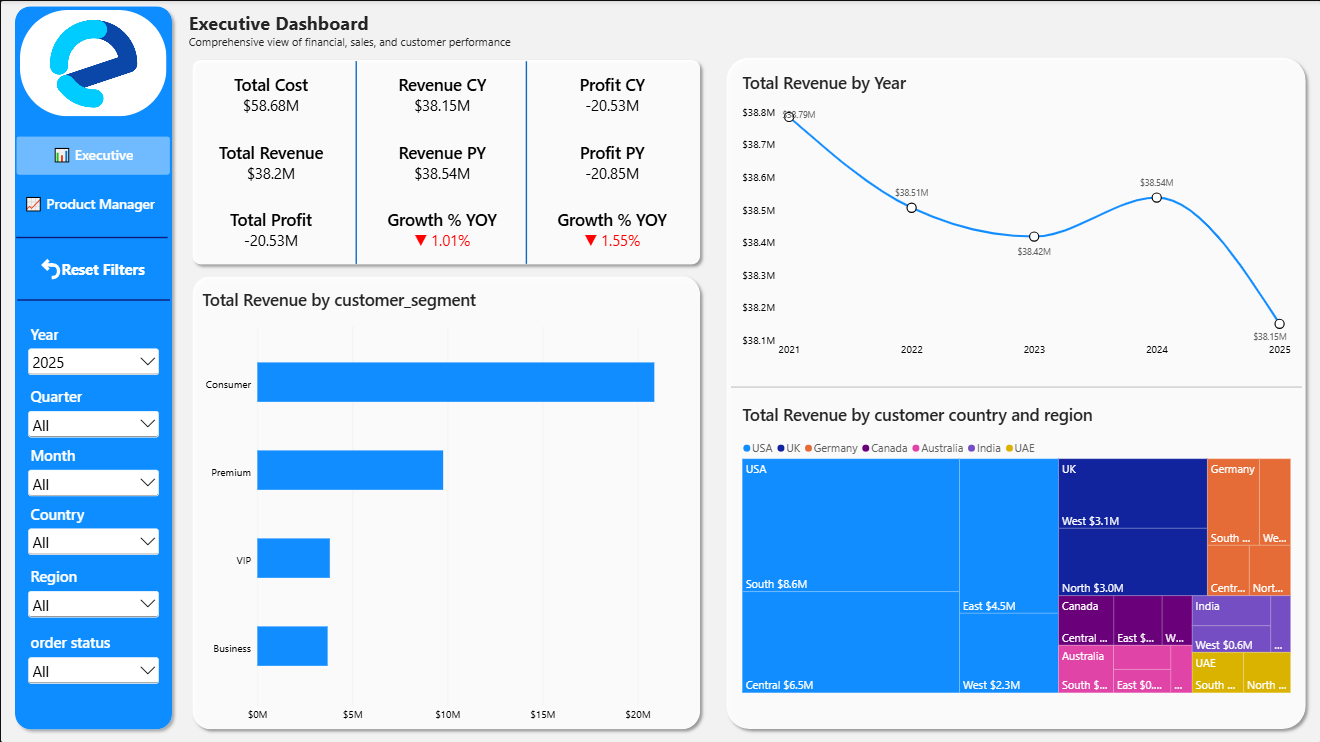

The page's visual inventory and layout, read from the dashboard file:
{"tool":"powerbi","page":{"name":"Executive Dashboard","canvas":[1920,1080],"ordinal":0},"visuals":[{"type":"shape","box":[271.3,392.3,755.5,676.2],"z":0},{"type":"shape","box":[271.3,77.2,755.5,315.1],"z":1000},{"type":"shape","box":[1045.6,75.1,859.8,993.4],"z":2000},{"type":"shape","box":[12.5,0,246.3,1068.5],"z":3000},{"type":"lineChart","fields":{"Y":["_New Measure Table.Total_Revenue"],"Category":["Calender.Date.Variation.Date Hierarchy.Year"]},"box":[1062.3,89.7,828.5,450],"z":4000},{"type":"treemap","title":"Total Revenue by customer country and region","fields":{"Group":["customer_master.customer_country"],"Values":["_New Measure Table.Total_Revenue"],"Details":["customer_master.region"]},"box":[1062.3,571.8,828.5,450],"z":5000},{"type":"barChart","fields":{"Category":["customer_master.customer_segment"],"Y":["_Measure Table.Total Revenue"]},"box":[277.6,404.9,738.8,663.7],"z":6000},{"type":"slicer","fields":{"Values":["Calender.Quarter"]},"box":[36.3,561.3,199.7,79.9],"z":7000},{"type":"cardVisual","title":"Profit","fields":{"Data":["_Measure Table.Total Profit YTD","_Measure Table.Total Profit PY","_Measure Table.YOY Profit Growth %"]},"box":[765.9,89.7,246,294.3],"z":8000},{"type":"cardVisual","title":"Revenue","fields":{"Data":["_Measure Table.Total Revenue YTD","_Measure Table.Total Revenue PY","_Measure Table.YOY Revenue Growth Display"]},"box":[519.7,89.7,246,294.3],"z":9000},{"type":"cardVisual","title":"Revenue","fields":{"Data":["_Measure Table.Total_Cost","_Measure Table.Total Revenue","_Measure Table.Total Profit"]},"box":[271.3,89.7,246.3,294.3],"z":10000},{"type":"shape","box":[475.8,89.7,83.5,294.3],"z":11000},{"type":"shape","box":[728.3,89.7,73,294.3],"z":12000},{"type":"slicer","fields":{"Values":["Calender.Year"]},"box":[36.3,470.5,199.7,85.3],"z":13000},{"type":"slicer","fields":{"Values":["customer_master.customer_country"]},"box":[36.3,732,199.7,85.3],"z":14000},{"type":"slicer","fields":{"Values":["Calender.Month"]},"box":[36.3,646.6,199.7,79.9],"z":15000},{"type":"slicer","fields":{"Values":["customer_master.region"]},"box":[36.3,822.7,199.7,89],"z":16000},{"type":"slicer","fields":{"Values":["ecommerce_sales_customer_analytics_150k.order_status"]},"box":[36.3,919,199.7,90.8],"z":17000},{"type":"textbox","box":[273.4,14.6,738.8,60.5],"z":18000},{"type":"shape","box":[25.4,421.3,221.5,29.1],"z":19000},{"type":"actionButton","box":[20.9,359,229.6,64.7],"z":20000},{"type":"shape","box":[1062.3,538.4,828.5,45.9],"z":21000},{"type":"shape","box":[23.6,330.5,219.7,29.1],"z":22000},{"type":"actionButton","title":"📈 Product Manager","box":[23.6,263.3,223.3,67.2],"z":23000},{"type":"actionButton","title":"📊 Executive","box":[23.6,197.9,223.3,56.3],"z":24000},{"type":"image","box":[29.2,14.6,212.9,154.4],"z":25000}]}

Visuals, with their boxes on the page's 1920x1080 design canvas (x1, y1, x2, y2). These are canvas units, not pixel positions in the 1320x742 screenshot, which may show the page scaled, cropped or inside an application window:
shape: 271/392/1027/1068
shape: 271/77/1027/392
shape: 1046/75/1905/1068
shape: 12/0/259/1068
lineChart - _New Measure Table.Total_Revenue x Calender.Date.Variation.Date Hierarchy.Year: 1062/90/1891/540
"Total Revenue by customer country and region" treemap: 1062/572/1891/1022
barChart - customer_master.customer_segment x _Measure Table.Total Revenue: 278/405/1016/1069
slicer - Calender.Quarter: 36/561/236/641
"Profit" cardVisual: 766/90/1012/384
"Revenue" cardVisual: 520/90/766/384
"Revenue" cardVisual: 271/90/518/384
shape: 476/90/559/384
shape: 728/90/801/384
slicer - Calender.Year: 36/470/236/556
slicer - customer_master.customer_country: 36/732/236/817
slicer - Calender.Month: 36/647/236/726
slicer - customer_master.region: 36/823/236/912
slicer - ecommerce_sales_customer_analytics_150k.order_status: 36/919/236/1010
textbox: 273/15/1012/75
shape: 25/421/247/450
actionButton: 21/359/250/424
shape: 1062/538/1891/584
shape: 24/330/243/360
"📈 Product Manager" actionButton: 24/263/247/330
"📊 Executive" actionButton: 24/198/247/254
image: 29/15/242/169
